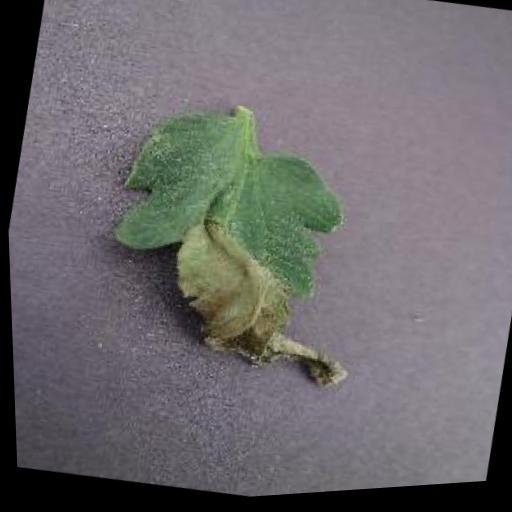Late Blight: (77, 84, 389, 408)
